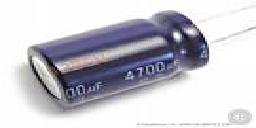Electrolytic-Capacitor: (26, 7, 211, 114)
